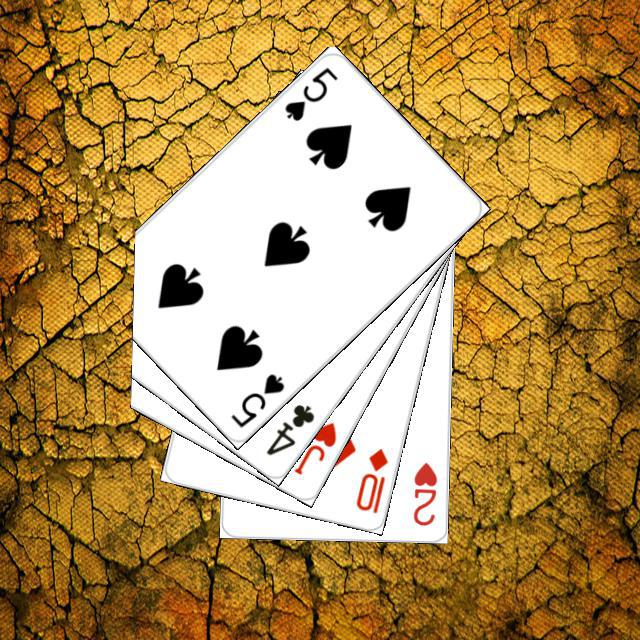10d: (351, 443, 390, 515)
2h: (408, 458, 439, 528)
4c: (261, 399, 316, 458)
5s: (225, 368, 286, 430), (279, 61, 340, 123)
Jh: (289, 417, 339, 477)
